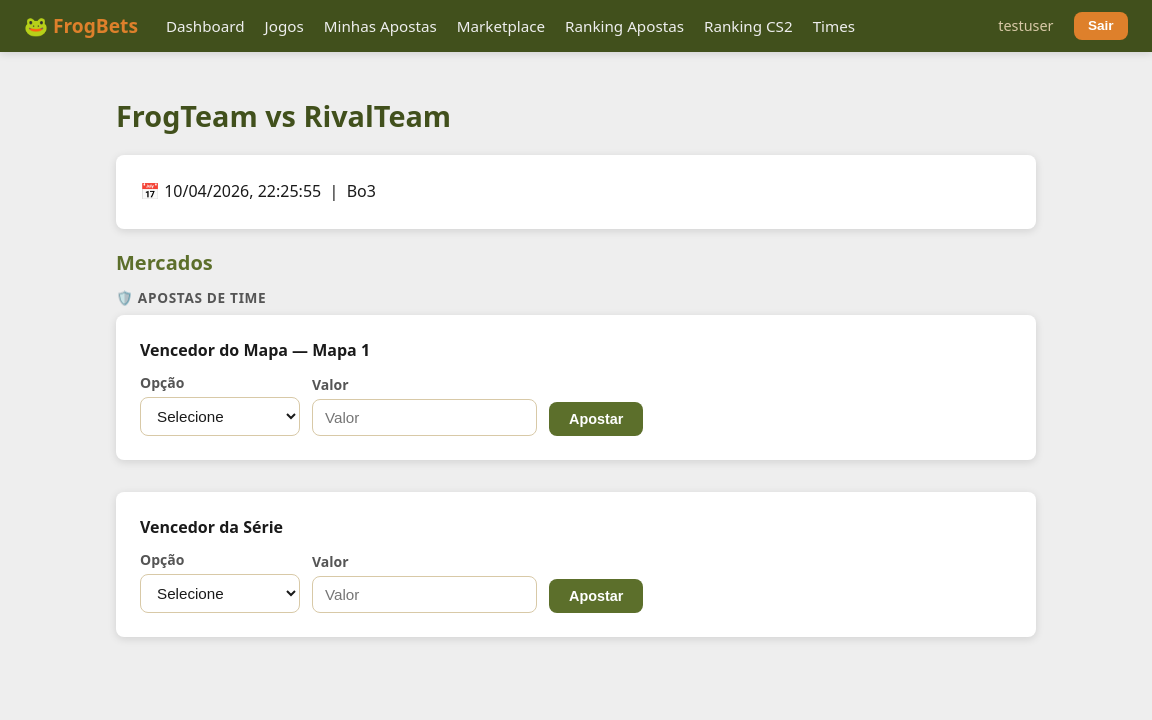
it: Detalhe do Jogo › exibe erro ao criar aposta com saldo insuficiente
The width and height of the screenshot is (1152, 720).
Select "FrogTeam" in the dropdown labelled "Opção" below "Vencedor do Mapa — Mapa 1". click: {"x": 220, "y": 417}
box: [140,397,300,436]
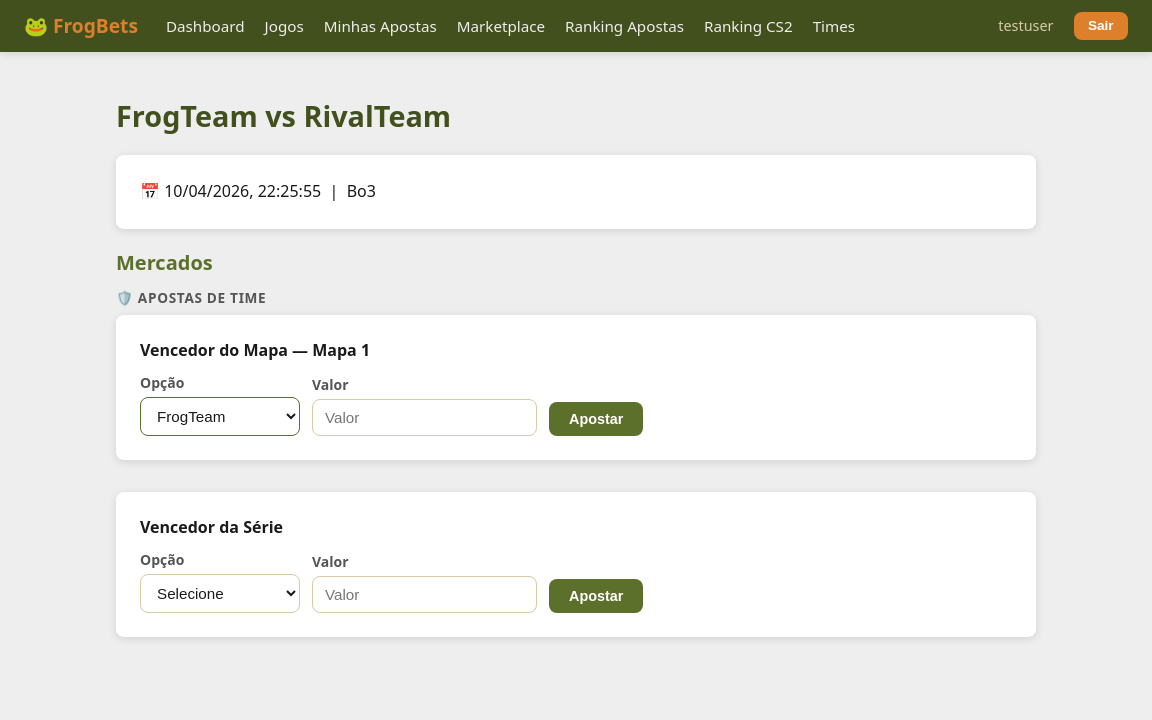
Type "99999" into the number field with placeholder "Valor" below "Vencedor do Mapa — Mapa 1". click: {"x": 425, "y": 418}
box: [312,399,537,436]
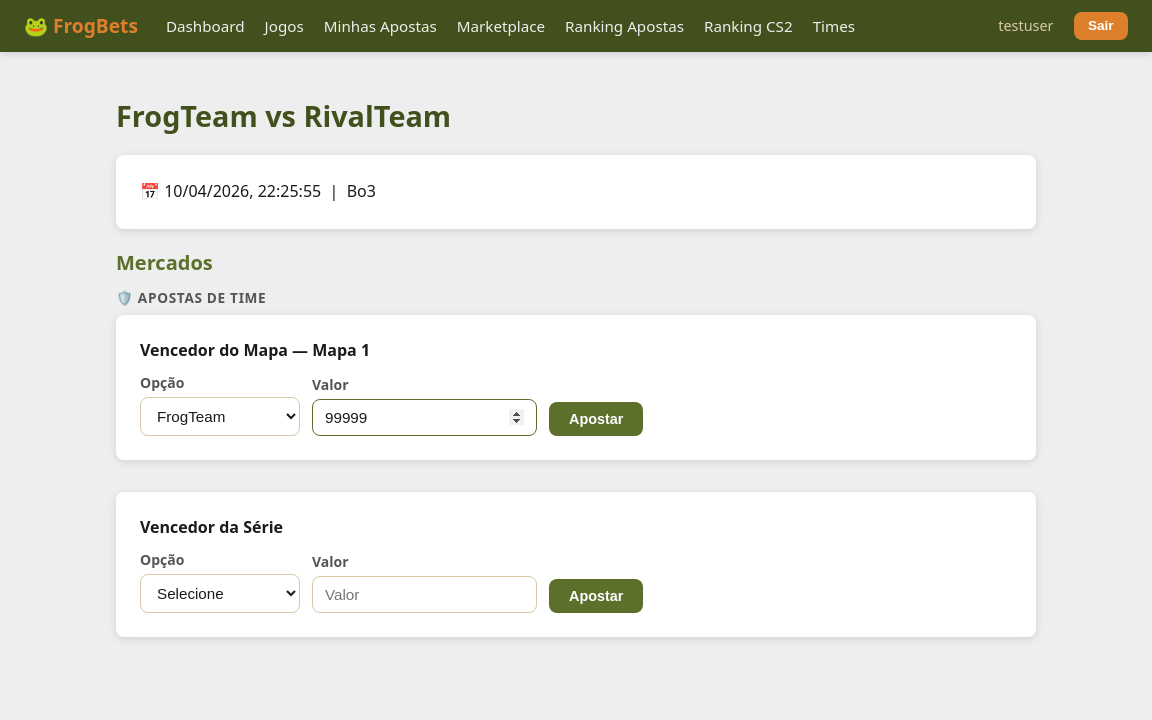
Click the button "Apostar" below "Vencedor do Mapa — Mapa 1". click: {"x": 596, "y": 419}
box: [549,402,643,436]
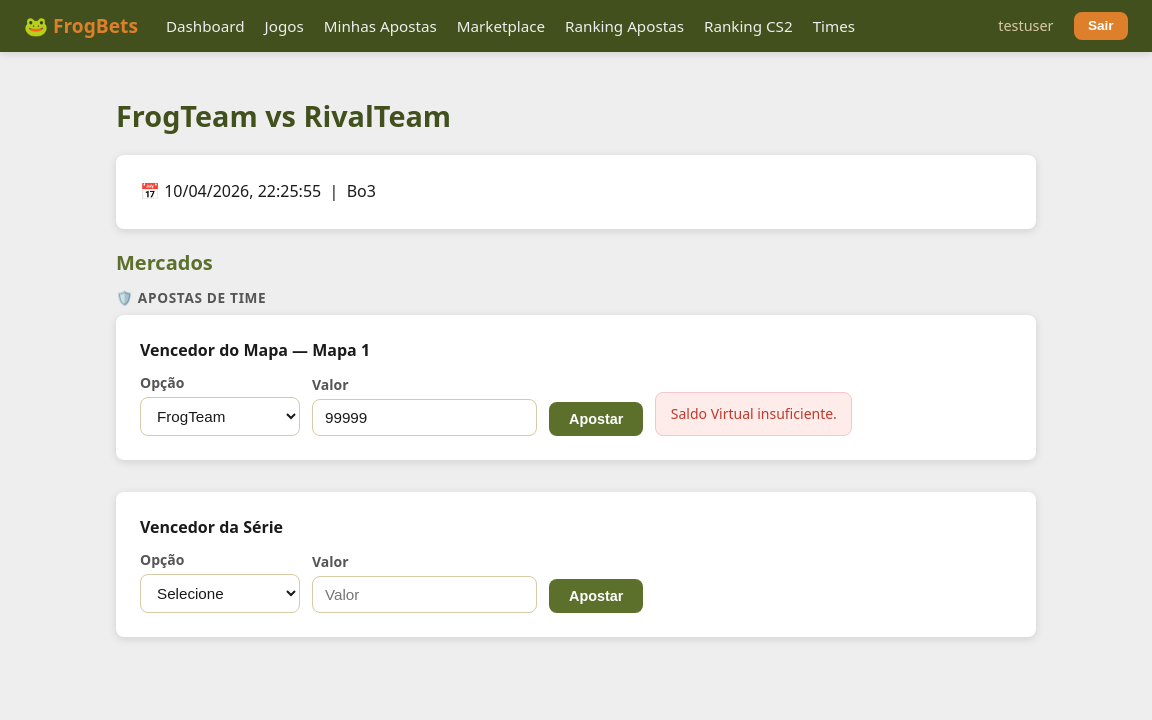
Result: the message "Saldo Virtual insuficiente." is shown at [655,392,852,436]
